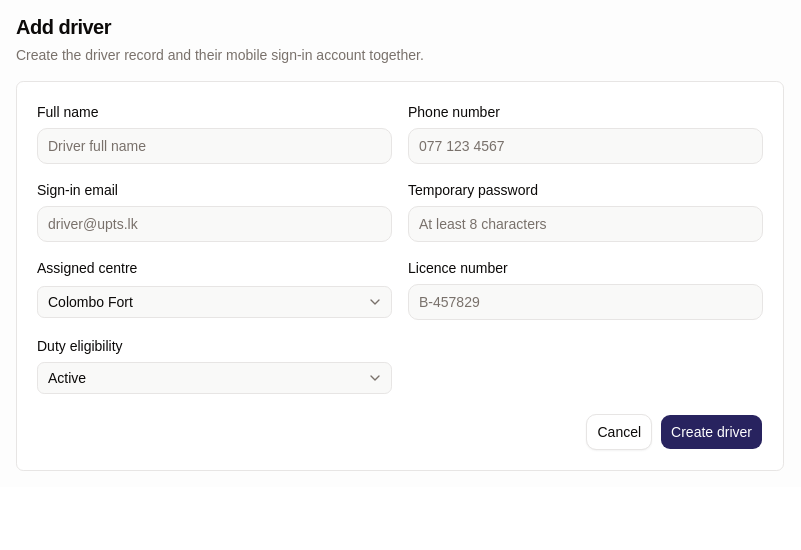
Test case: DriverFormPage › rejects a driver with a short password
Expected: the heading "Add driver" is shown, [16,16,111,38]
Type "Kamal" into the field with placeholder "Driver full name" at coordinates (214, 146), box [37,128,392,164]
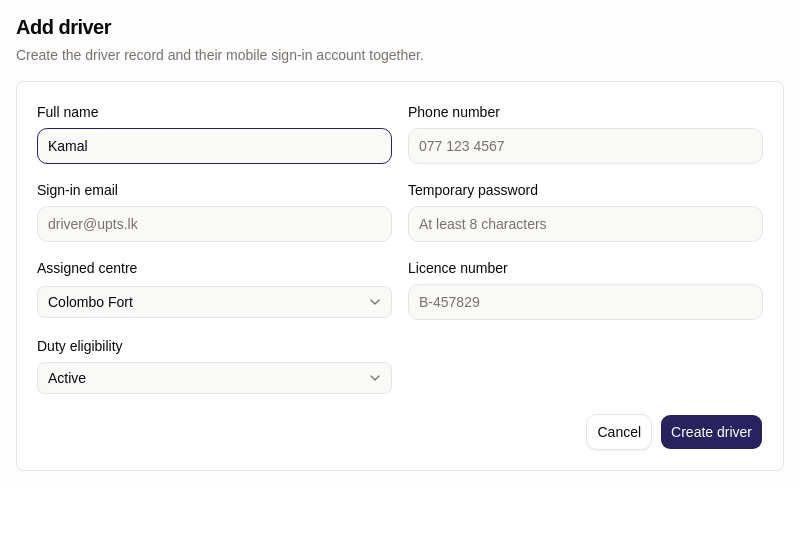
Type "k@upts.lk" into the field with placeholder "driver@upts.lk" at coordinates (214, 224), box [37,206,392,242]
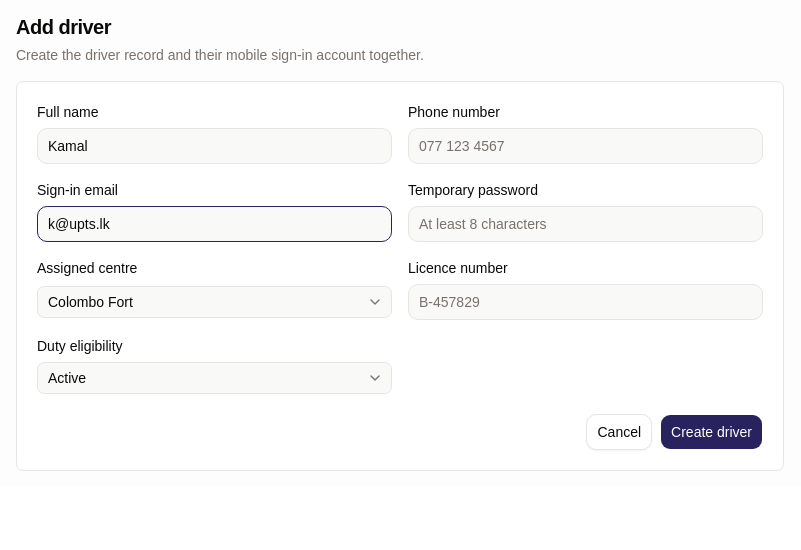
Type "short" into the password field with placeholder "At least 8 characters" at coordinates (586, 224), box [408,206,763,242]
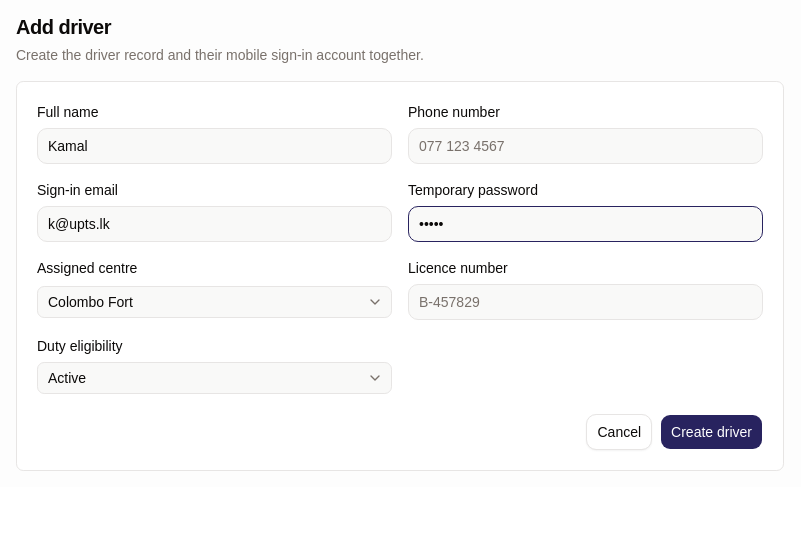
Type "dl-1" into the field with placeholder "B-457829" at coordinates (586, 302), box [408,284,763,320]
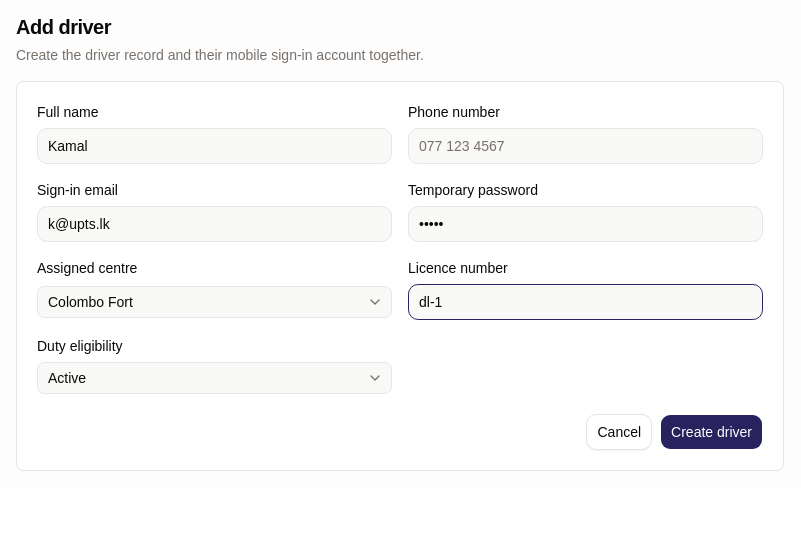
Click the button "Create driver" at coordinates (712, 432), box [660,414,763,450]
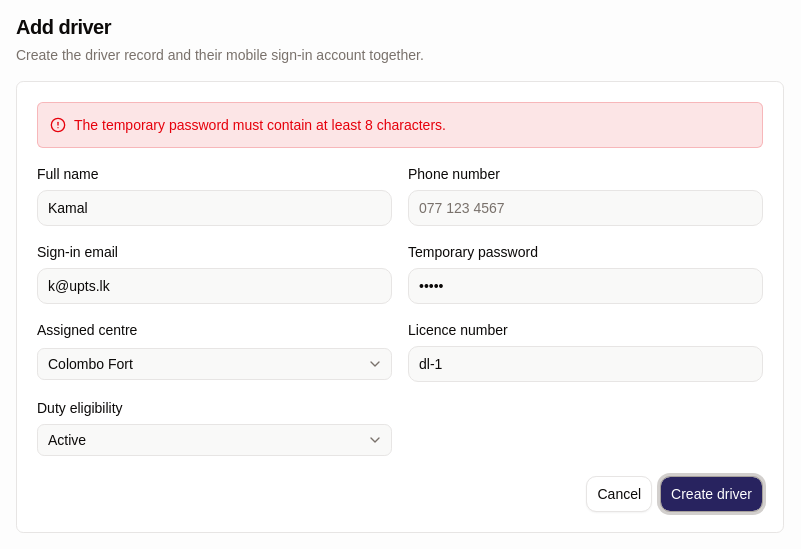
Now the text "The temporary password must contain at least 8 characters." is shown, box [74,115,446,135]
